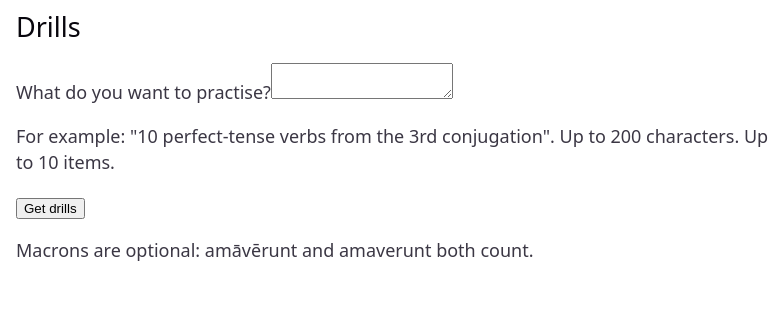
a request the generator cannot meet shows its message and no items
In the text box labelled "What do you want to practise?": (362, 81) [271,63,453,99], type "1st person of a noun"
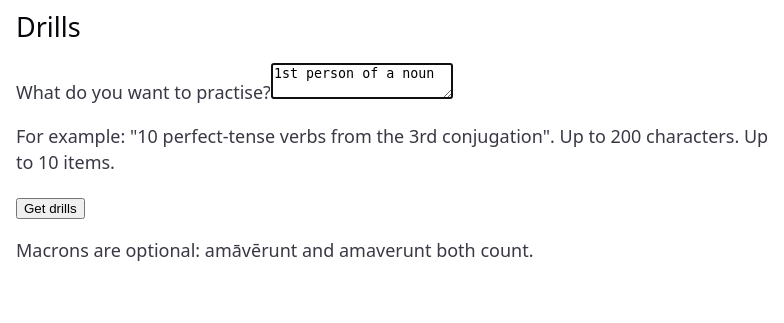
Click the button "Get drills": (50, 209) [16,198,85,219]
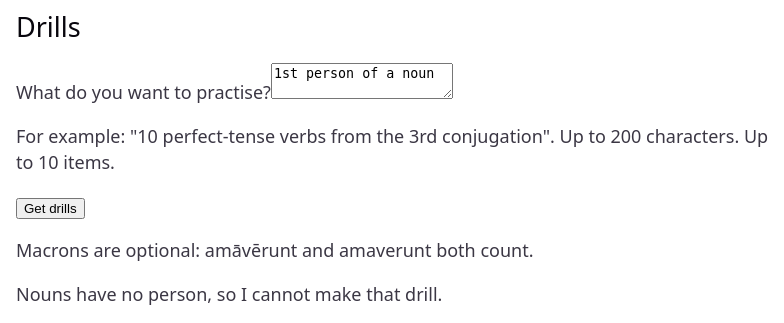
Now the message shows "Nouns have no person", box [16,282,442,306]
